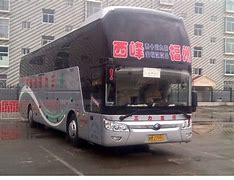bigcar: (17, 7, 200, 151)
